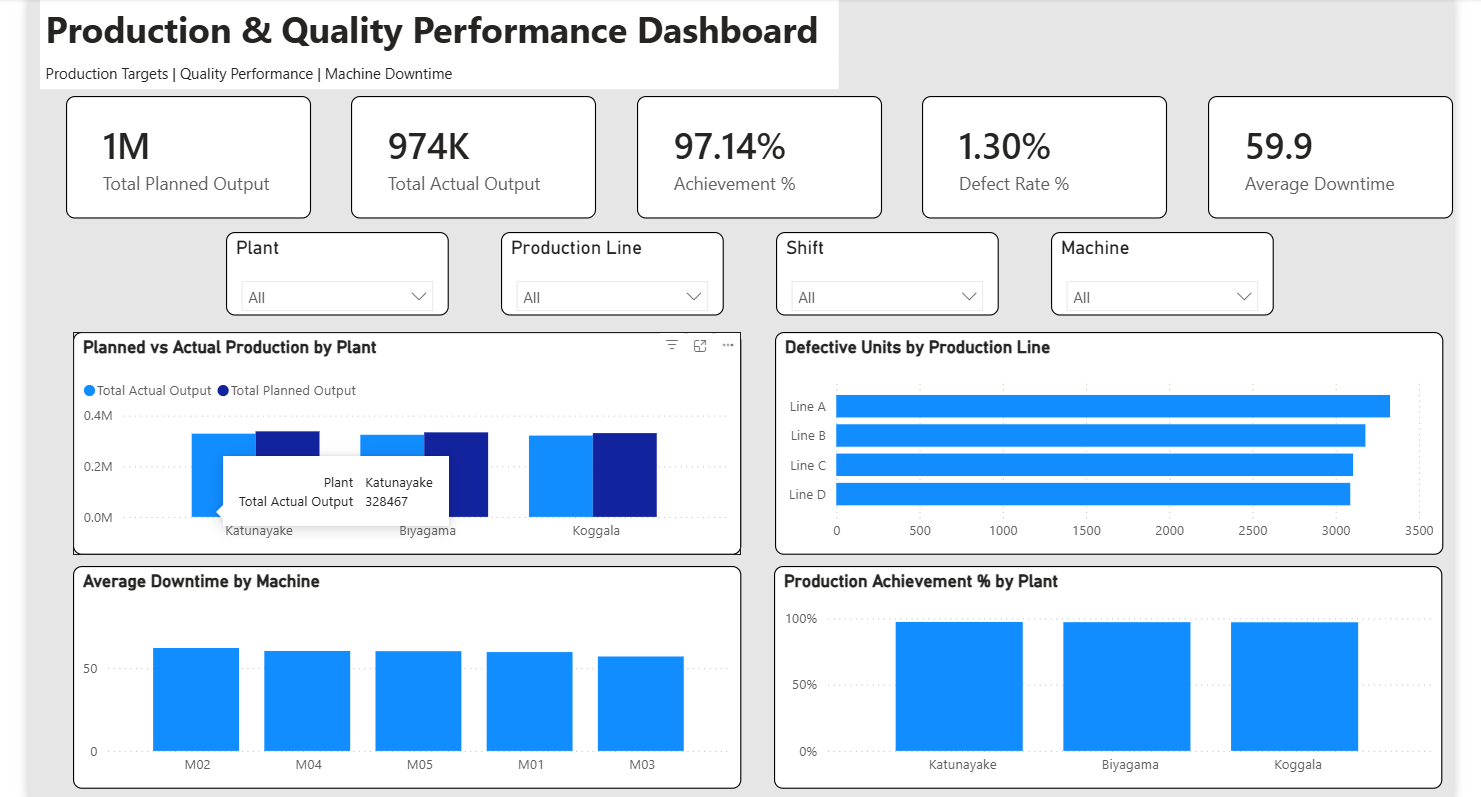

The page's visual inventory and layout, read from the dashboard file:
{"tool":"powerbi","page":{"name":"Production & Quality Analysis","canvas":[1280,720],"ordinal":1},"visuals":[{"type":"clusteredColumnChart","title":"Planned vs Actual Production by Plant","fields":{"Category":["Manufacturing_Data.Plant"],"Y":["Manufacturing_Data.Total Actual Output","Manufacturing_Data.Total Planned Output"]},"box":[40,300,600,200],"z":0},{"type":"cardVisual","fields":{"Data":["Manufacturing_Data.Total Planned Output"]},"box":[34.2,88.2,220.3,110],"z":1000},{"type":"clusteredBarChart","title":"Defective Units by Production Line","fields":{"Category":["Manufacturing_Data.Production_Line"],"Y":["Sum(Manufacturing_Data.Defective_Units)"]},"box":[670.2,300,600,200],"z":2000},{"type":"cardVisual","fields":{"Data":["Manufacturing_Data.Total Actual Output"]},"box":[290.4,88.2,220.3,110],"z":3000},{"type":"cardVisual","fields":{"Data":["Manufacturing_Data.Production Achievement %"]},"box":[546.6,88.2,220.3,110],"z":4000},{"type":"clusteredColumnChart","title":"Average Downtime by Machine","fields":{"Category":["Manufacturing_Data.Machine_ID"],"Y":["Manufacturing_Data.Average Downtime"]},"box":[40,510,600,200],"z":5000},{"type":"clusteredColumnChart","title":"Production Achievement % by Plant","fields":{"Category":["Manufacturing_Data.Plant"],"Y":["Manufacturing_Data.Production Achievement %"]},"box":[670,510,600,200],"z":6000},{"type":"cardVisual","fields":{"Data":["Manufacturing_Data.Defect Rate %"]},"box":[802.7,88.2,220.3,110],"z":7000},{"type":"textbox","box":[11.1,54.2,716.8,28.4],"z":8000},{"type":"cardVisual","fields":{"Data":["Manufacturing_Data.Average Downtime"]},"box":[1058.9,88.2,220.3,110],"z":9000},{"type":"slicer","title":"Plant","fields":{"Values":["Manufacturing_Data.Plant"]},"box":[177.4,210,200,74.8],"z":9000,"group":"g1"},{"type":"group","id":"g1","title":"Group 2","box":[177.4,210,940.6,75],"z":10000},{"type":"slicer","title":"Production Line","fields":{"Values":["Manufacturing_Data.Production_Line"]},"box":[424.2,210,200,74.8],"z":10000,"group":"g1"},{"type":"textbox","box":[10.8,0,717.1,55],"z":11000},{"type":"slicer","title":"Shift","fields":{"Values":["Manufacturing_Data.Shift"]},"box":[671,210,200,75],"z":11000,"group":"g1"},{"type":"slicer","title":"Machine","fields":{"Values":["Manufacturing_Data.Machine_ID"]},"box":[918,210,200,75],"z":12000,"group":"g1"}]}

Visuals, with their boxes on the page's 1280x720 design canvas (x1, y1, x2, y2). These are canvas units, not pixel positions in the 1481x797 screenshot, which may show the page scaled, cropped or inside an application window:
"Planned vs Actual Production by Plant" clusteredColumnChart: (40, 300, 640, 500)
cardVisual - Manufacturing_Data.Total Planned Output: (34, 88, 254, 198)
"Defective Units by Production Line" clusteredBarChart: (670, 300, 1270, 500)
cardVisual - Manufacturing_Data.Total Actual Output: (290, 88, 511, 198)
cardVisual - Manufacturing_Data.Production Achievement %: (547, 88, 767, 198)
"Average Downtime by Machine" clusteredColumnChart: (40, 510, 640, 710)
"Production Achievement % by Plant" clusteredColumnChart: (670, 510, 1270, 710)
cardVisual - Manufacturing_Data.Defect Rate %: (803, 88, 1023, 198)
textbox: (11, 54, 728, 83)
cardVisual - Manufacturing_Data.Average Downtime: (1059, 88, 1279, 198)
"Plant" slicer: (177, 210, 377, 285)
"Group 2" group: (177, 210, 1118, 285)
"Production Line" slicer: (424, 210, 624, 285)
textbox: (11, 0, 728, 55)
"Shift" slicer: (671, 210, 871, 285)
"Machine" slicer: (918, 210, 1118, 285)
